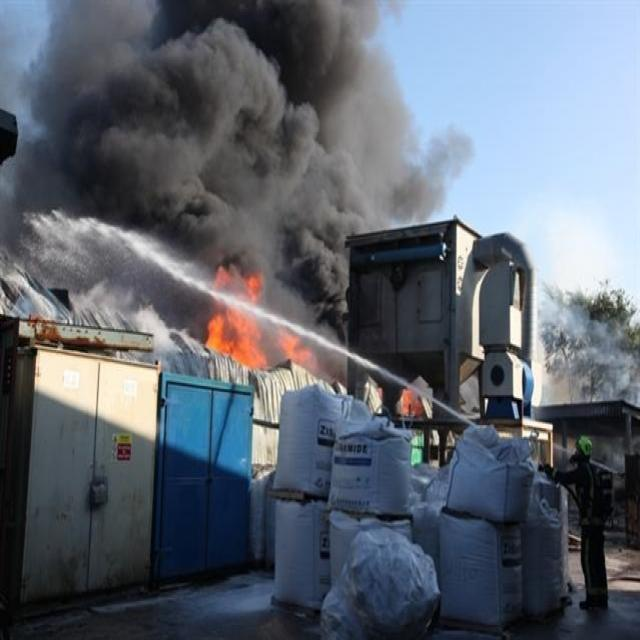Fire: (206, 266, 270, 368), (280, 330, 312, 366)
Smoke: (1, 2, 476, 380)
